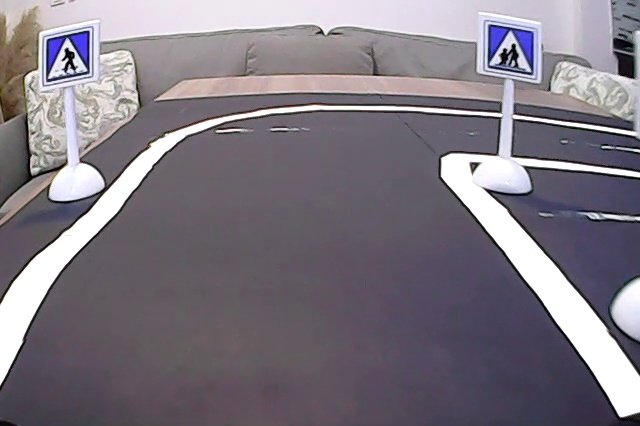pedestrian crossing: (42, 29, 95, 84)
school crossing: (481, 20, 538, 78)
